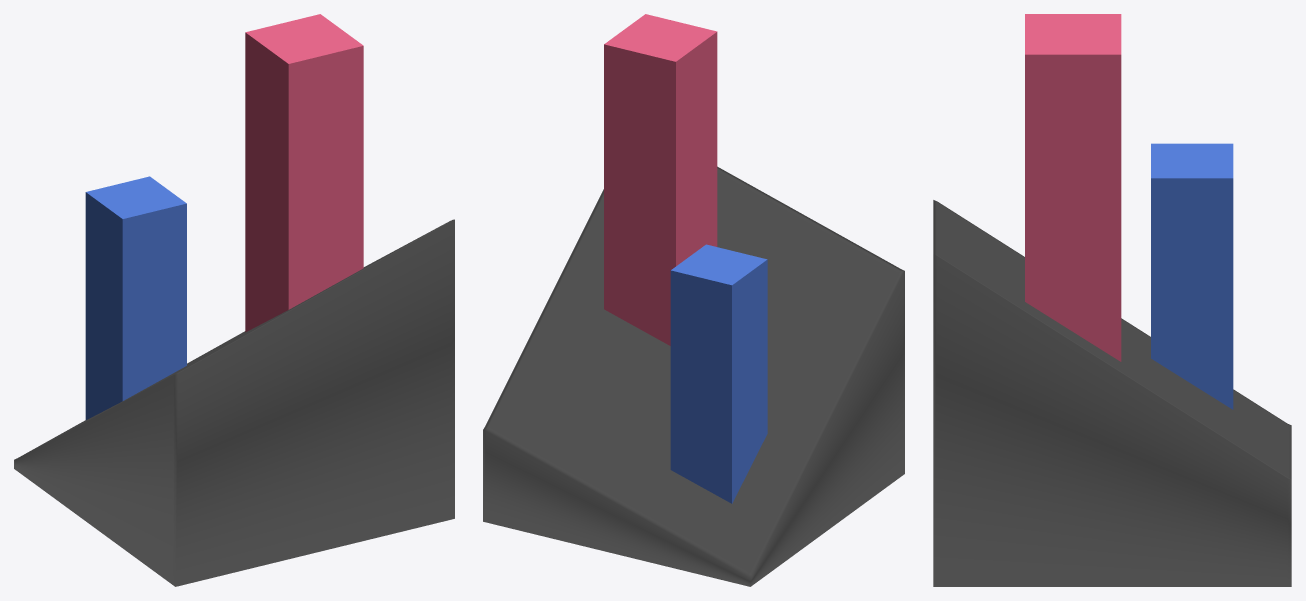
The model's file is sat2lod2_baseline.glb.
The picture shows the model from 3 angles, left to right: view 1: azimuth 30°, elevation 25°; view 2: azimuth 150°, elevation 25°; view 3: azimuth 270°, elevation 25°; orthographic projection. The views are drawn at different scales.
Size of the model in its own units: 64 by 99.55 by 64.
